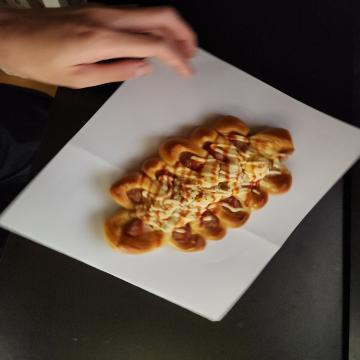pizza_bread: (114, 66, 255, 255)
